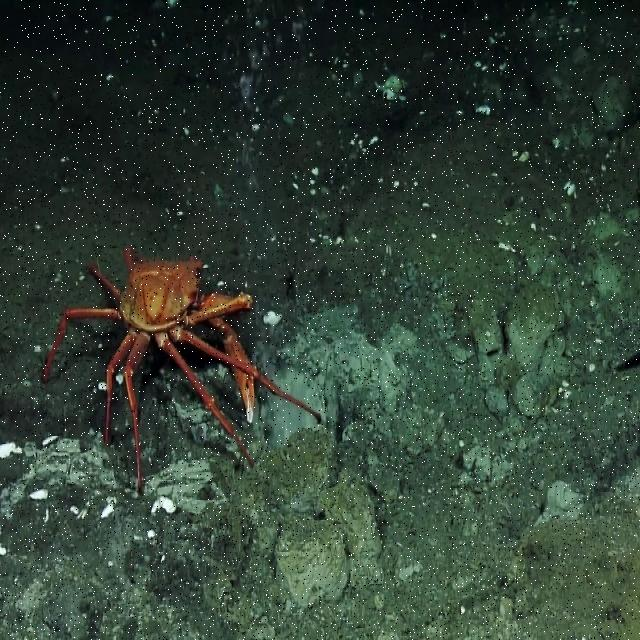reefs: (41, 246, 320, 491)
